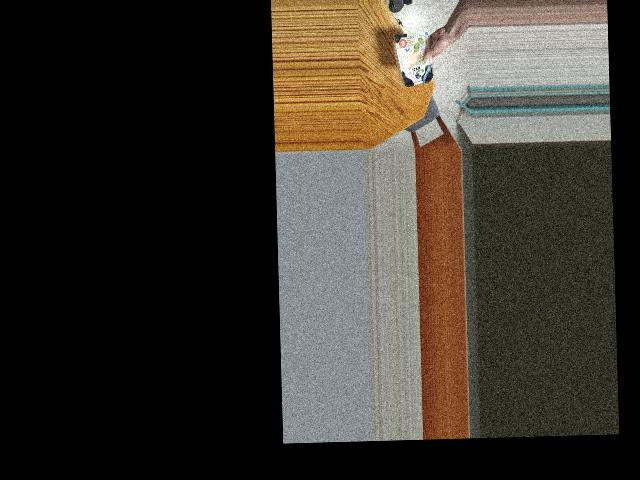cheese: (395, 38, 440, 83)
